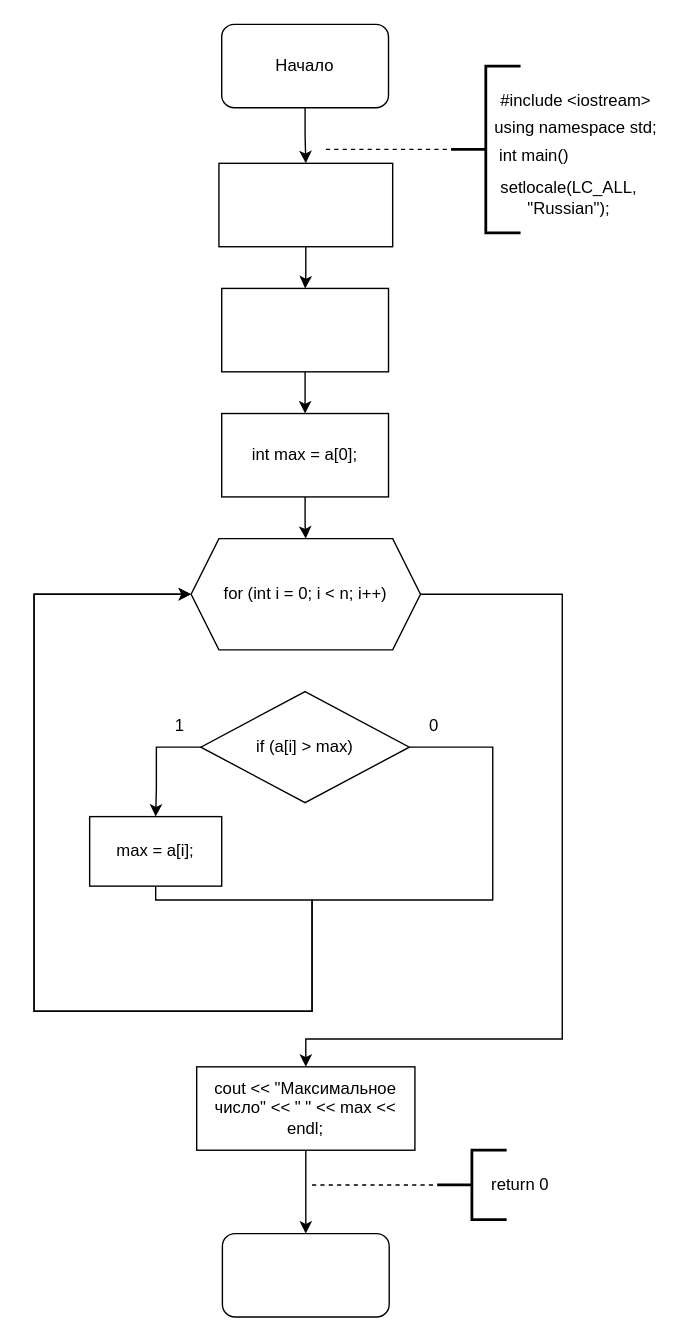
This 698x1341 diagram has some shape labels left out. The centre of each missing label's shape, as x and y in pixels:
int a[10] = { 2, 5, 4, 5, 4, 6, 5, 5, 5, 6 };: the point at 305,204
int n = 10;: the point at 304,329
конец: the point at 305,1274
